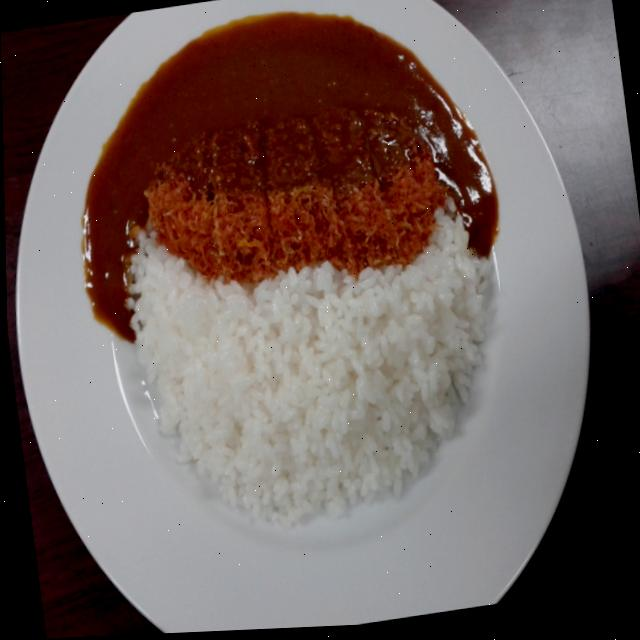猪肉菜式: (0, 0, 604, 640)
